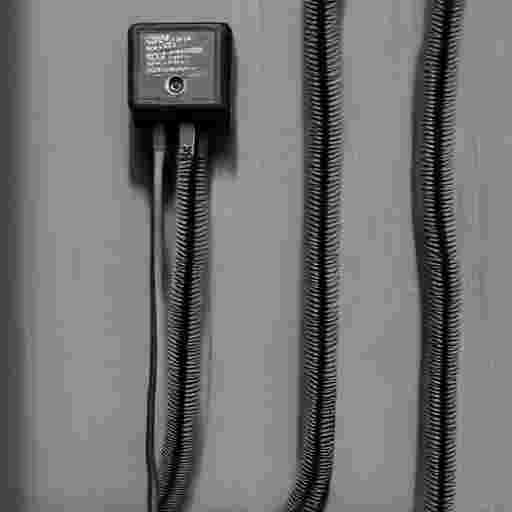power outlet: (128, 23, 230, 110)
